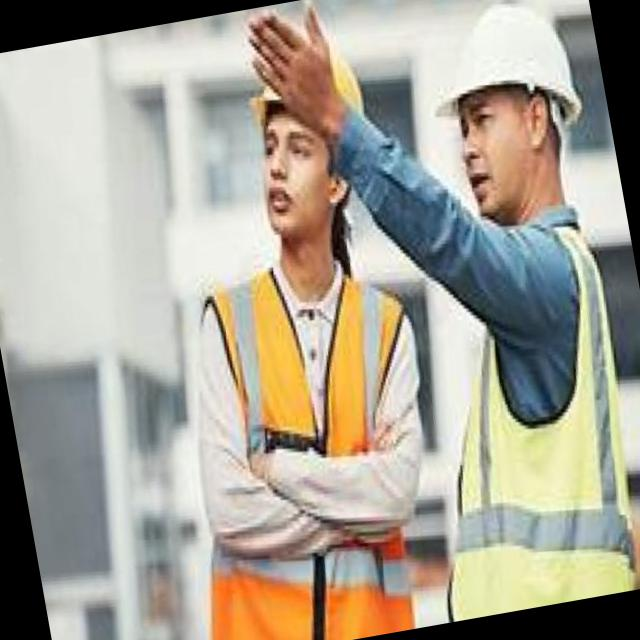not-gloved: (229, 0, 386, 159)
